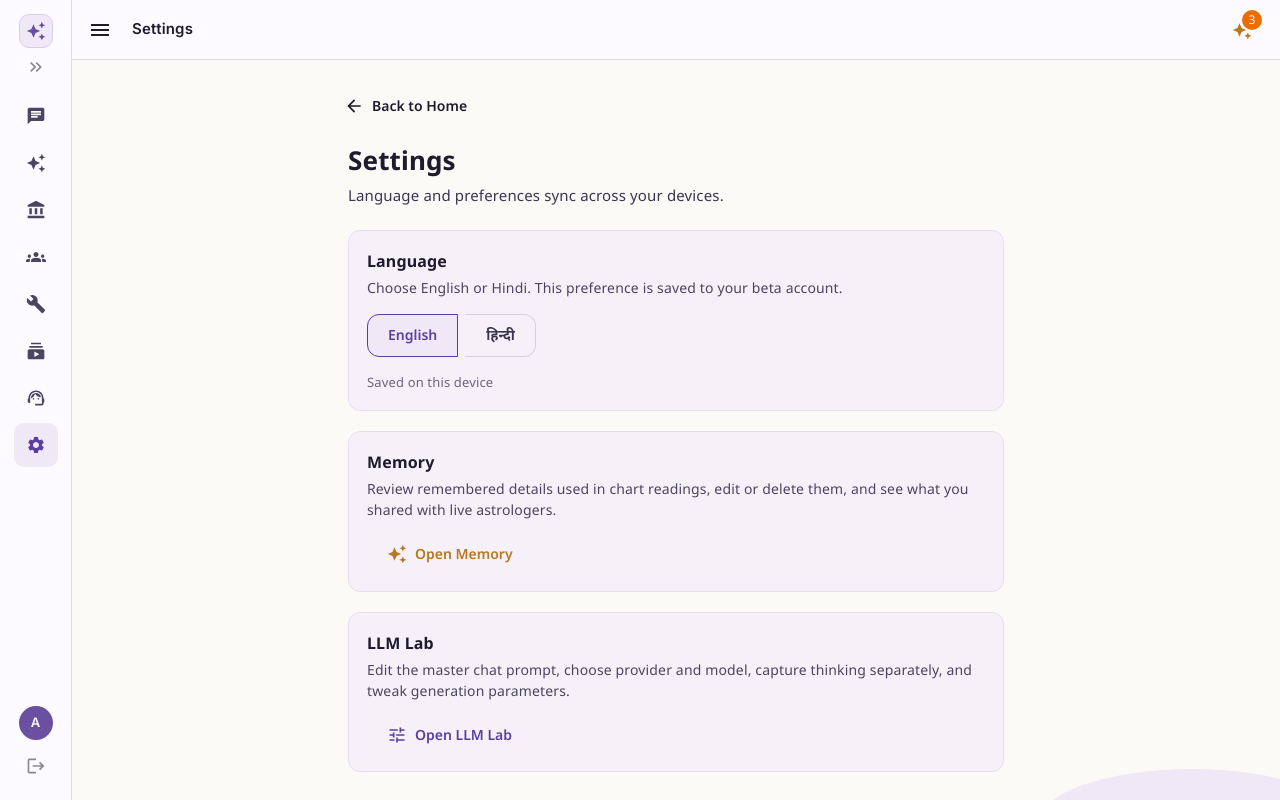
Scenario: settings page can switch language to Hindi
The width and height of the screenshot is (1280, 800).
Expected: the heading "Settings" is shown, [348,142,456,178]
Click the button "हिन्दी" at (501, 335), box [465,314,536,356]
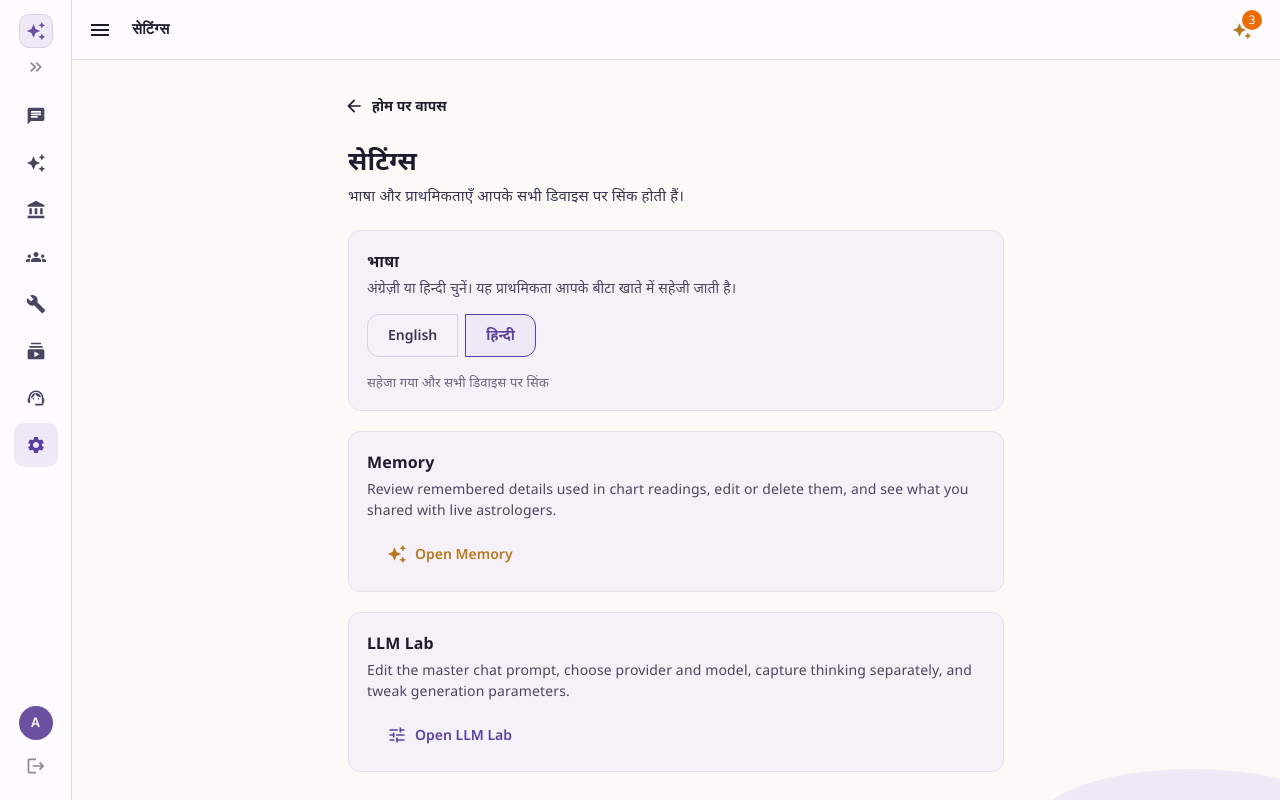
Result: the heading "सेटिंग्स" is shown at [348,142,417,178]
